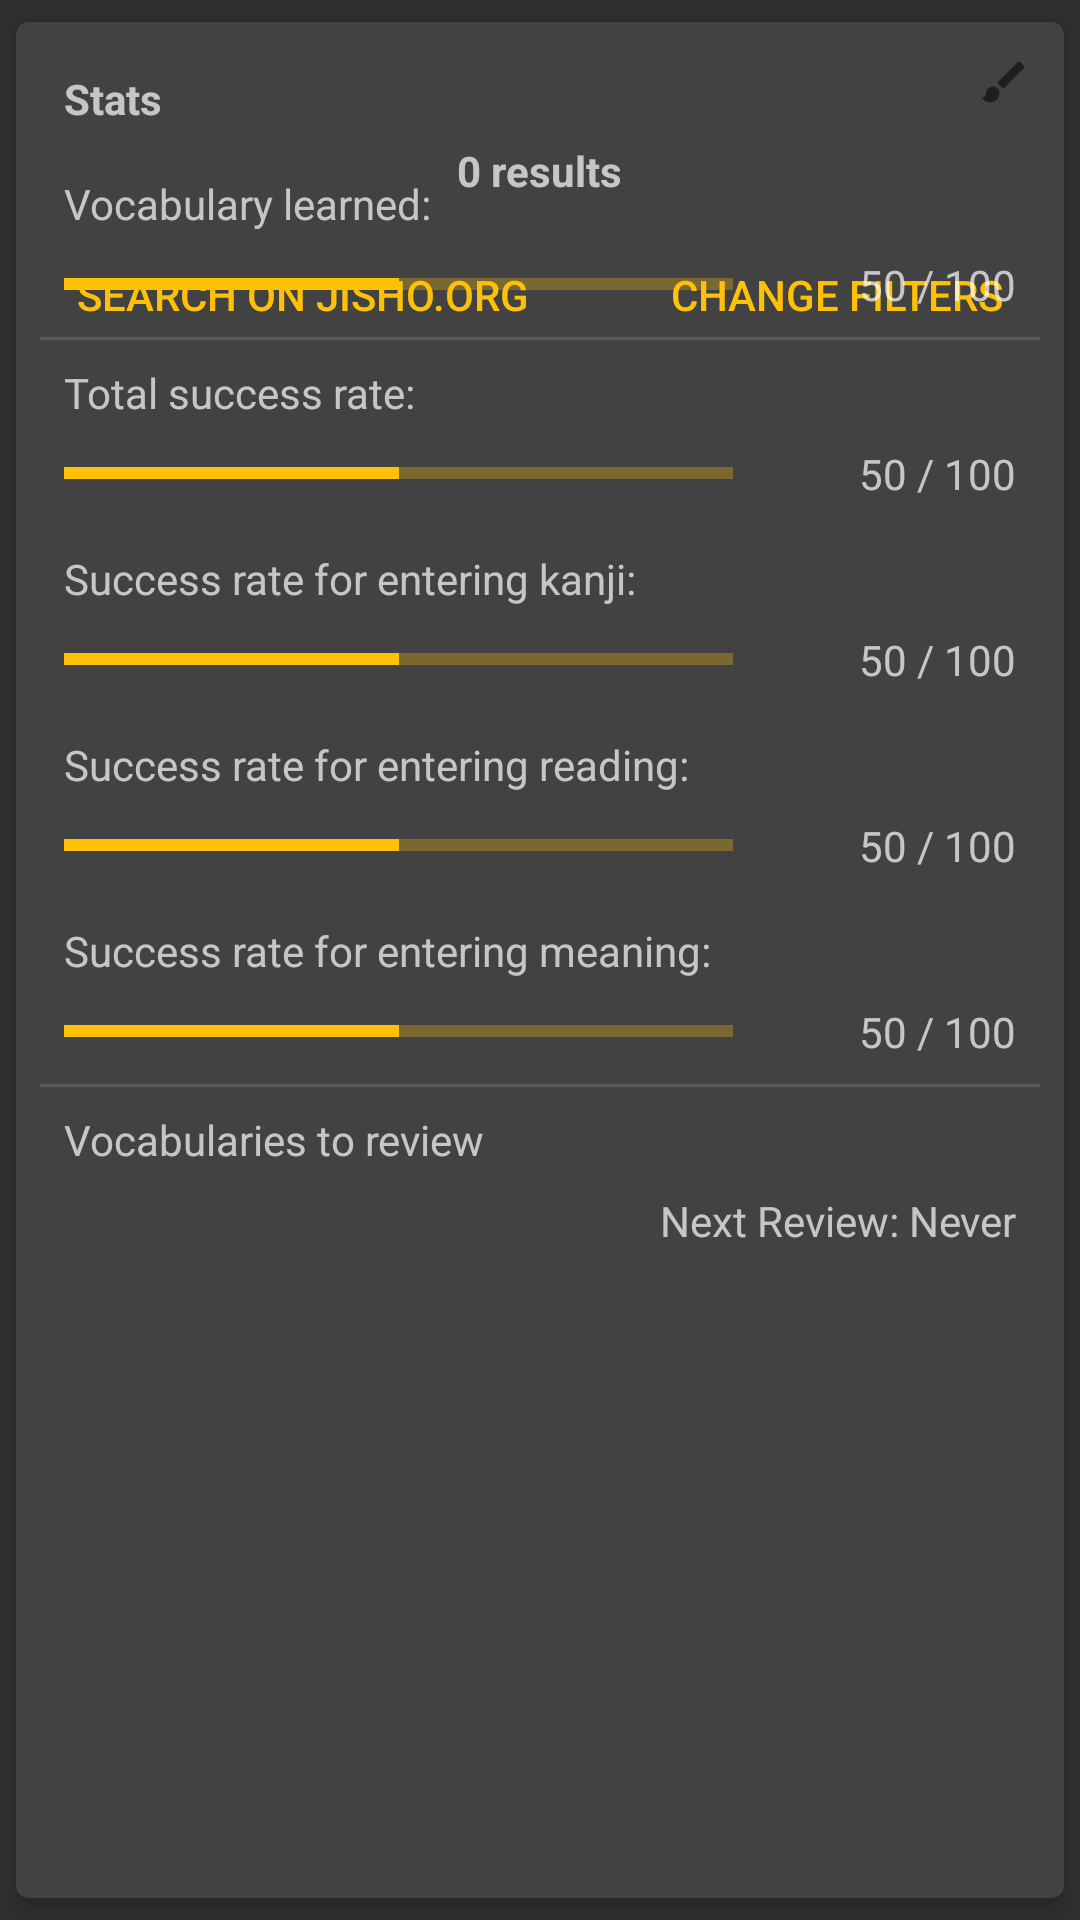

Where to tap for icons on this 1080×1920 app screen, as [x,y]:
stroke order: [1003,82]
